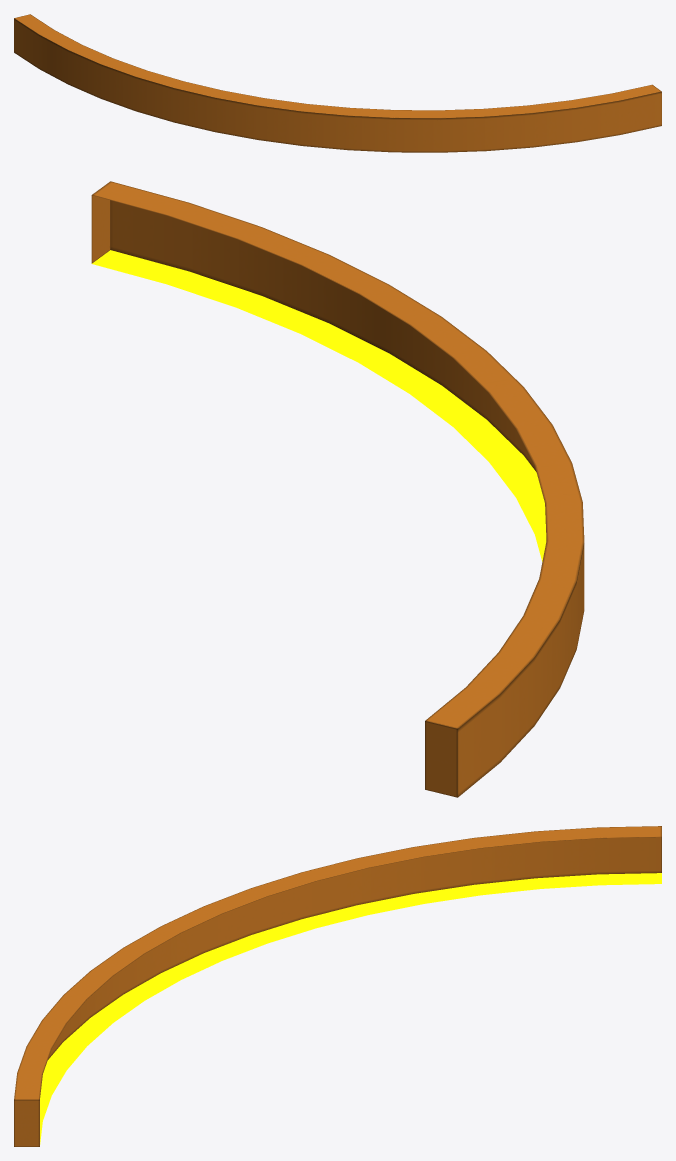
File: Wall_Frieze_07.FBX
3 renders of one model, top to bottom at view 1: azimuth 30°, elevation 25°; view 2: azimuth 150°, elevation 25°; view 3: azimuth 270°, elevation 25°, orthographic. The views are drawn at different scales.
Parts seen in each view (by area): view 1: Wall_Frieze_07; view 2: Wall_Frieze_07; view 3: Wall_Frieze_07.
Part boxes in pixels (x1,y1,x2,y2): Wall_Frieze_07: (14,14,661,152); Wall_Frieze_07: (91,181,584,797); Wall_Frieze_07: (14,826,661,1146).
Size of the model in its own units: 6.25 by 0.5 by 6.25.
